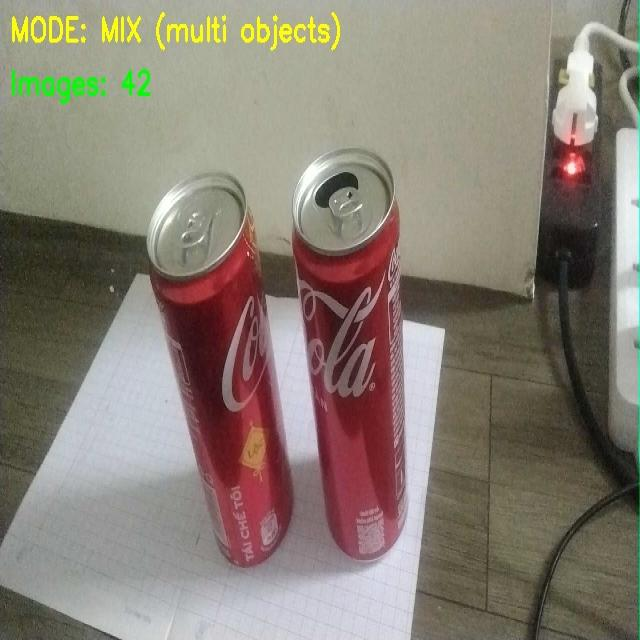Coca: (135, 147, 300, 577)
Coca_open: (284, 146, 461, 559)
